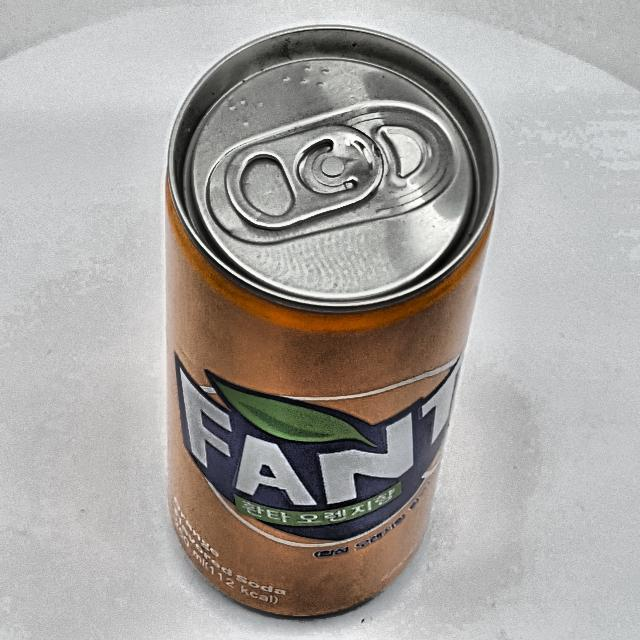fantaorange: (160, 170, 498, 620)
